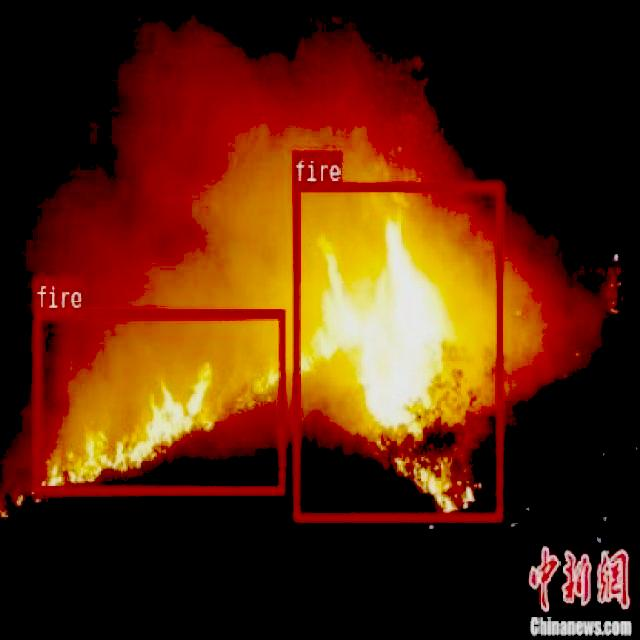fire: (293, 180, 502, 520), (33, 308, 284, 492)
